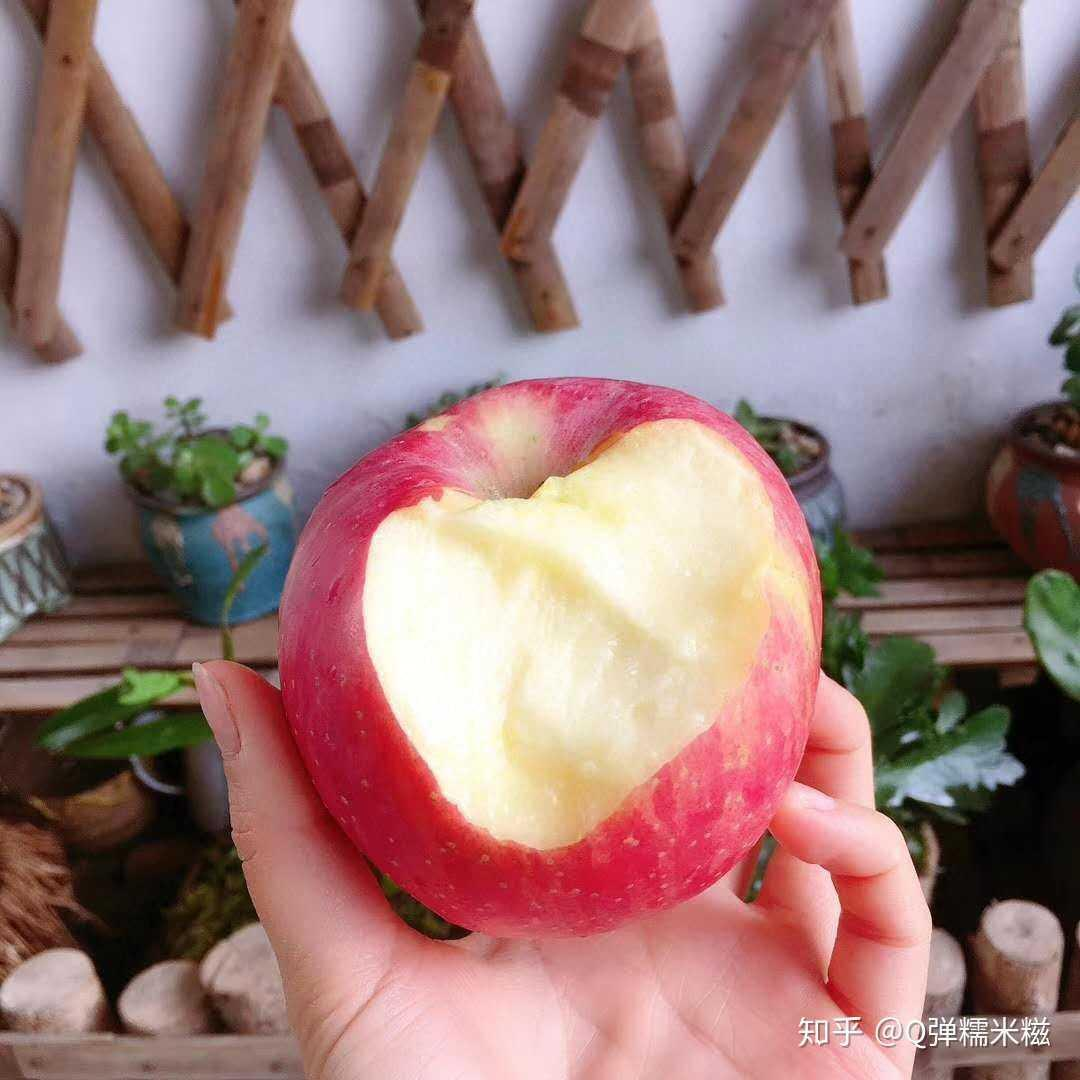apple: (276, 373, 821, 941)
